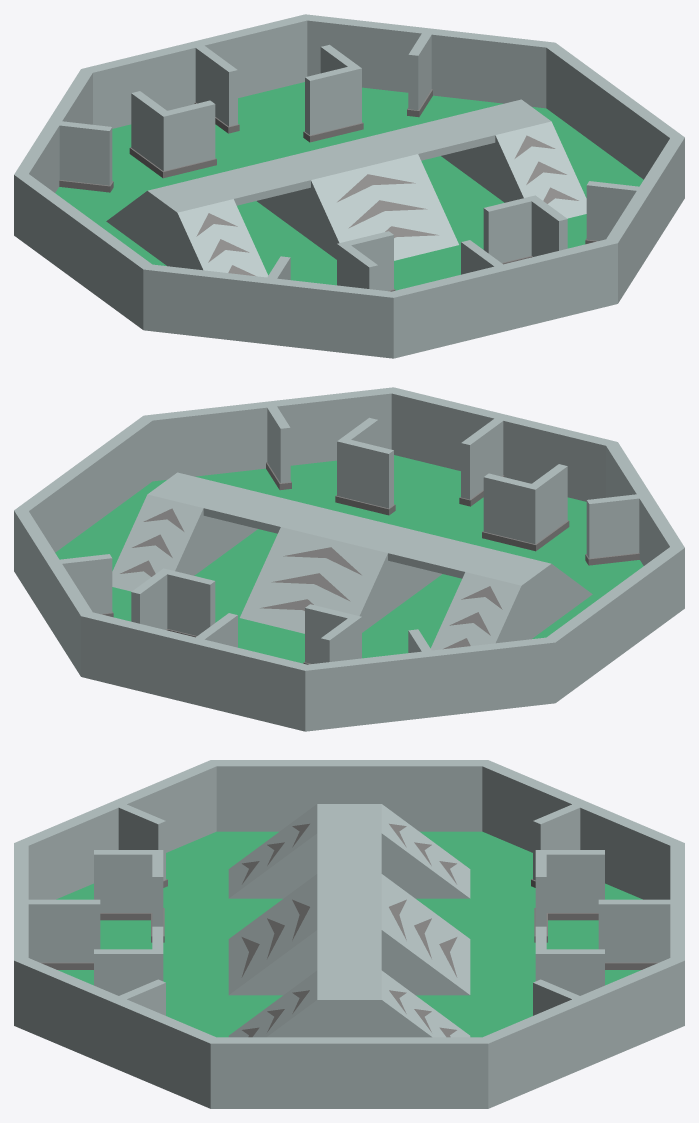
File: Location12.fbx
The picture shows the model from 3 angles, top to bottom: view 1: azimuth 30°, elevation 25°; view 2: azimuth 150°, elevation 25°; view 3: azimuth 270°, elevation 25°; orthographic projection. The views are drawn at different scales.
Visible parts, largest first — view 1: outer_wall.12, bridge.12, wall.12, floor.12; view 2: outer_wall.12, bridge.12, wall.12, floor.12; view 3: outer_wall.12, bridge.12, floor.12, wall.12.
Part boxes in pixels (x1=…): outer_wall.12: x1=14, y1=14, x2=684, y2=358; bridge.12: x1=106, y1=99, x2=586, y2=277; wall.12: x1=16, y1=15, x2=682, y2=296; floor.12: x1=55, y1=82, x2=643, y2=290; outer_wall.12: x1=14, y1=387, x2=684, y2=731; bridge.12: x1=112, y1=472, x2=592, y2=650; wall.12: x1=16, y1=388, x2=650, y2=669; floor.12: x1=55, y1=455, x2=643, y2=663; outer_wall.12: x1=14, y1=760, x2=684, y2=1108; bridge.12: x1=228, y1=804, x2=470, y2=1037; floor.12: x1=56, y1=831, x2=642, y2=1037; wall.12: x1=18, y1=761, x2=682, y2=1042.
Size of the model in its own units: 1700 by 183 by 1700.
